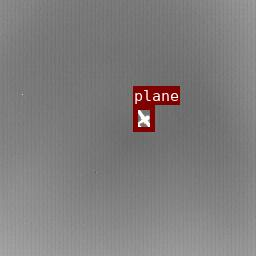plane: (133, 105, 154, 131)
